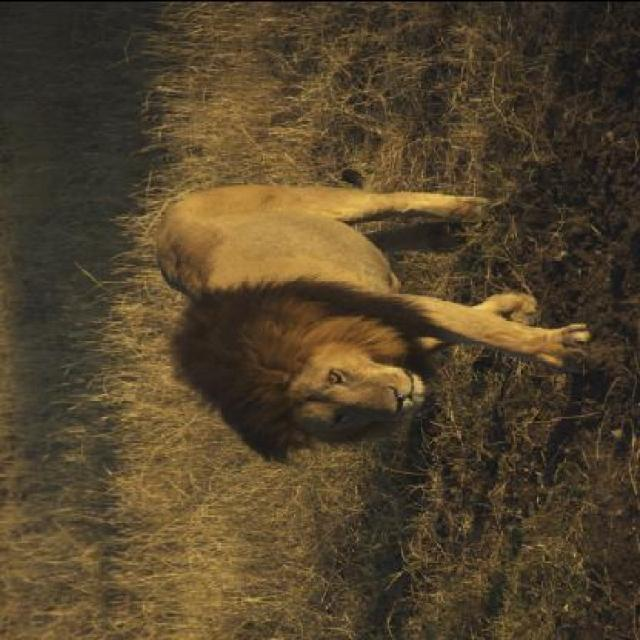Lion: (143, 145, 605, 469)
